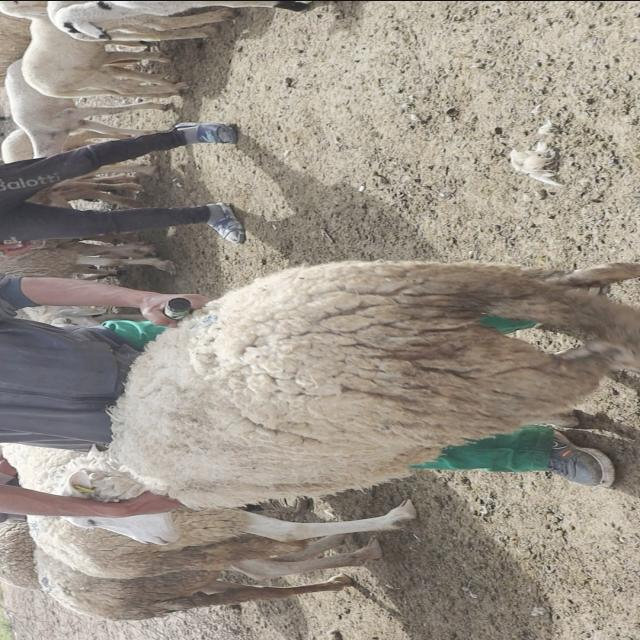Score_3: (55, 259, 639, 509)
